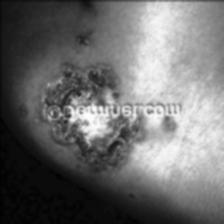Toxin: (39, 60, 124, 112), (49, 117, 137, 165), (162, 116, 176, 132), (76, 34, 90, 49), (15, 104, 28, 116)
